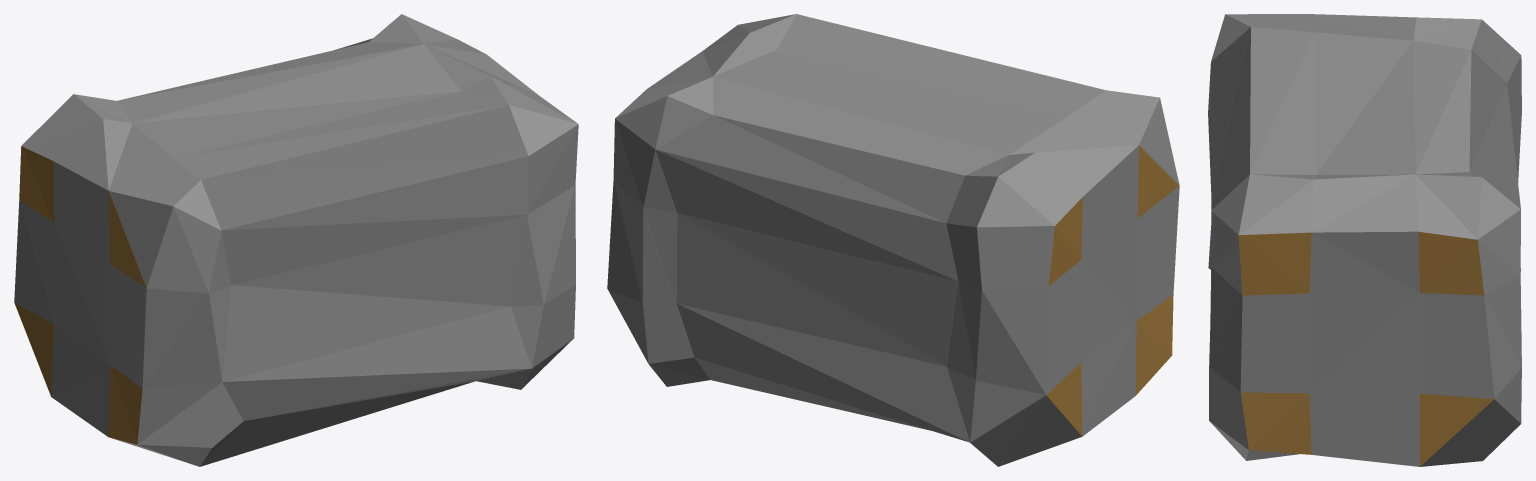
File: kit_crate_long.glb
3 views of the same model, side by side, from view 1: azimuth 30°, elevation 25°; view 2: azimuth 150°, elevation 25°; view 3: azimuth 270°, elevation 25° (orthographic). The views are drawn at different scales.
Parts seen in each view (by area): view 1: kit_crate_long; view 2: kit_crate_long; view 3: kit_crate_long.
Boxes of the visible parts, x1,y1,x2,y2 form: kit_crate_long: (14,14,578,466); kit_crate_long: (607,14,1179,466); kit_crate_long: (1208,14,1521,466).
Size of the model in its own units: 1.22 by 0.7734 by 0.7742.
